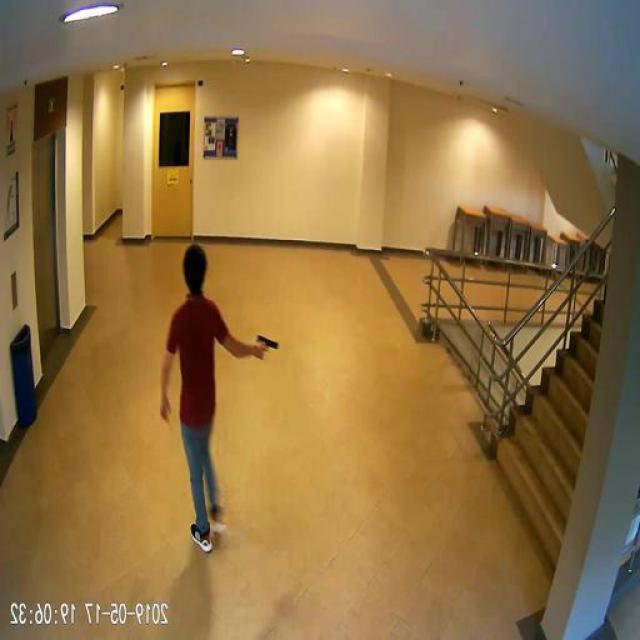weapon: (254, 333, 280, 362)
